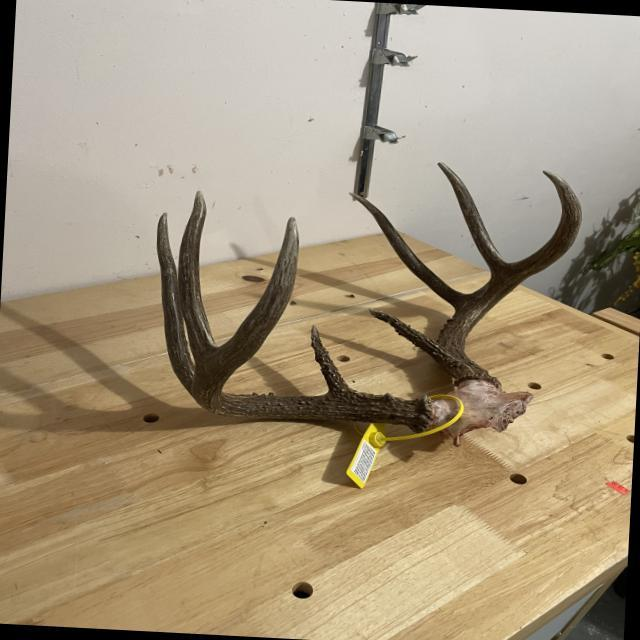L-F: (436, 170, 582, 389)
L-G1: (369, 308, 463, 371)
L-G2: (349, 192, 469, 310)
L-G3: (437, 162, 510, 275)
R-F: (192, 217, 433, 434)
R-G1: (311, 325, 353, 394)
R-G3: (178, 190, 217, 362)
